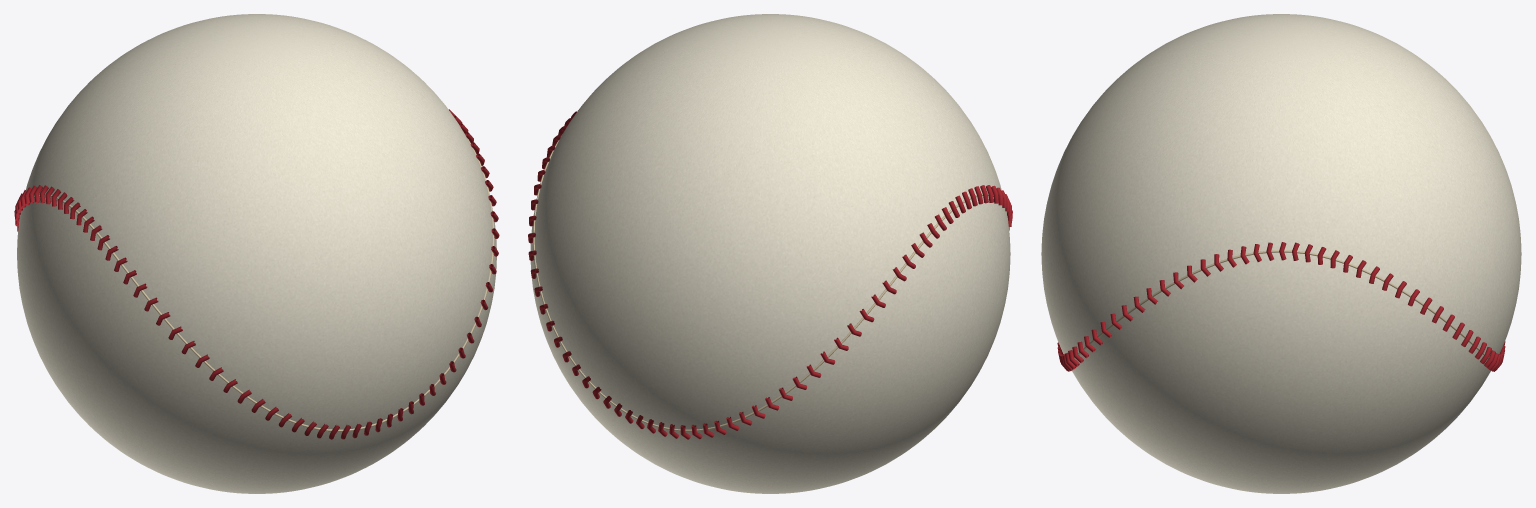
The model's file is baseball.gltf.
The picture shows the model from 3 angles, left to right: view 1: azimuth 30°, elevation 25°; view 2: azimuth 150°, elevation 25°; view 3: azimuth 270°, elevation 25°; orthographic projection.
Parts seen in each view (by area): view 1: White leather baseball; view 2: White leather baseball; view 3: White leather baseball.
Boxes of the visible parts, x1,y1,x2,y2 form: White leather baseball: (14,14,499,493); White leather baseball: (528,14,1012,493); White leather baseball: (1041,14,1521,493).
Size of the model in its own units: 0.073 by 0.073 by 0.073.
Materials: 3 (1 with a texture image).
